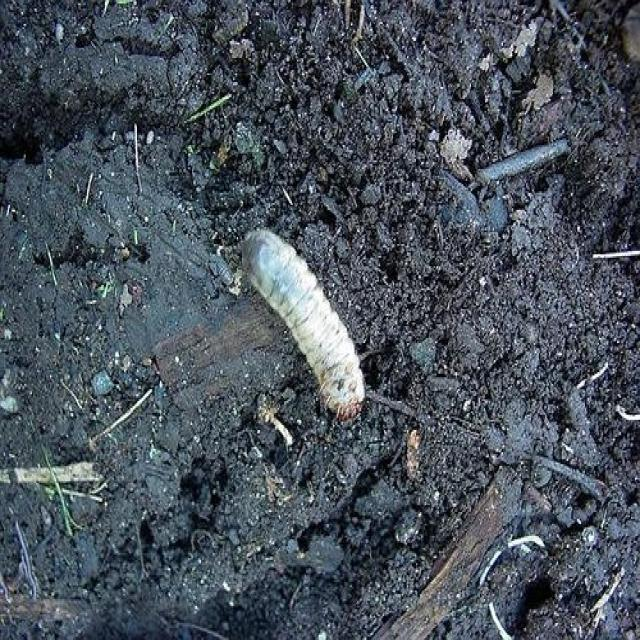grub: (239, 228, 365, 419)
